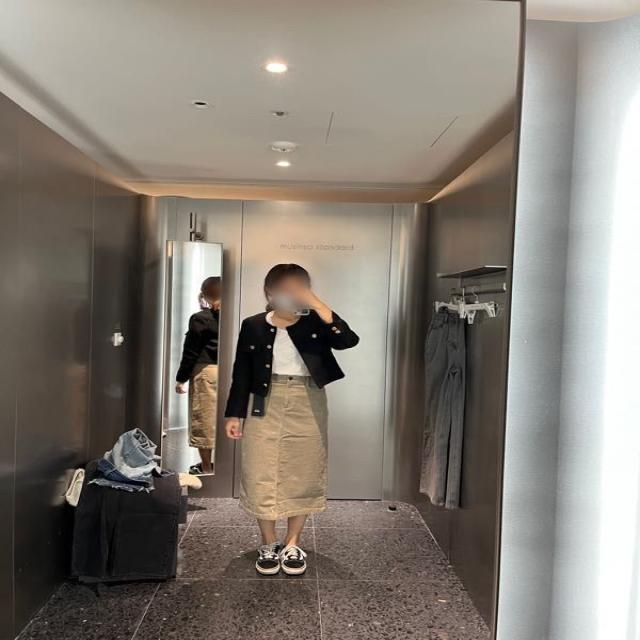jacket: (226, 307, 358, 420)
skirt: (242, 370, 330, 520)
